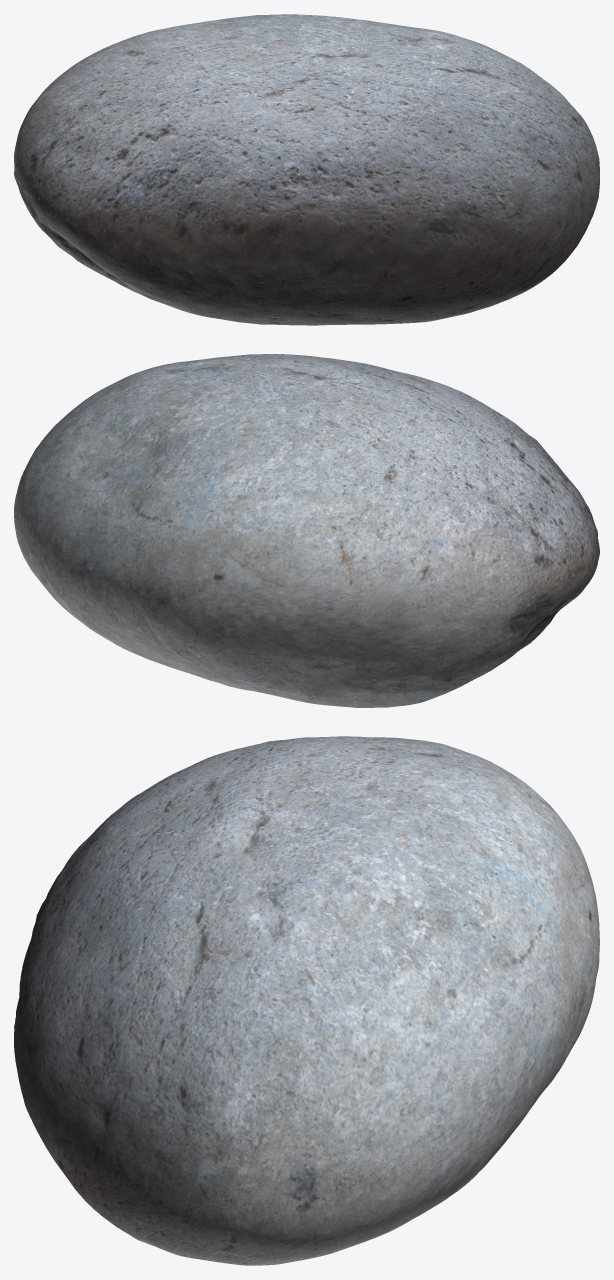
Rendered from smooth_rock.glb.
The picture shows the model from 3 angles, top to bottom: view 1: azimuth 30°, elevation 25°; view 2: azimuth 150°, elevation 25°; view 3: azimuth 270°, elevation 25°; orthographic projection. The views are drawn at different scales.
Visible parts, largest first — view 1: Object_2; view 2: Object_2; view 3: Object_2.
Boxes of the visible parts, <box> form: Object_2: <box>14,14,599,325</box>; Object_2: <box>14,354,599,707</box>; Object_2: <box>14,736,599,1265</box>.
Bounding box in the file's own units: 0.3027 × 0.1412 × 0.2226.
1 material, 1 textured.
